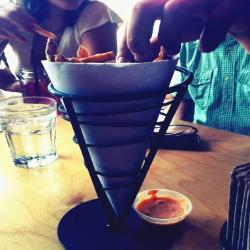fries: (53, 42, 170, 71)
ketchup: (137, 187, 189, 232)
